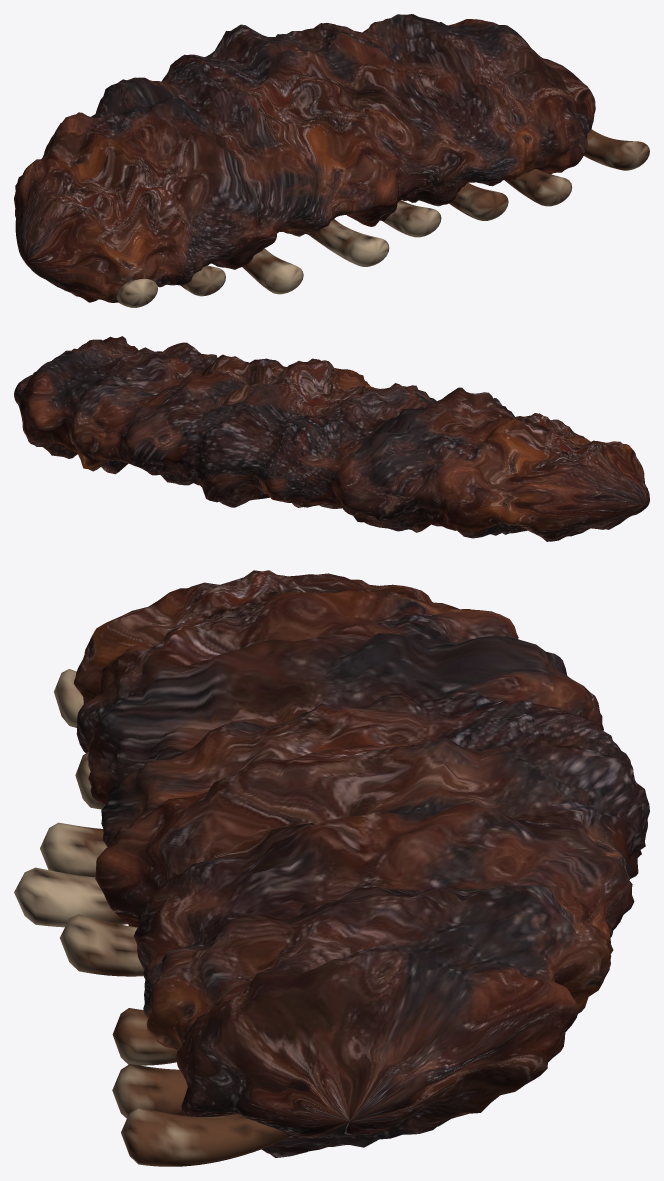
Rendered from pork-monster-ribs.glb.
The picture shows the model from 3 angles, top to bottom: view 1: azimuth 30°, elevation 25°; view 2: azimuth 150°, elevation 25°; view 3: azimuth 270°, elevation 25°; orthographic projection. The views are drawn at different scales.
Parts seen in each view (by area): view 1: Glazed pork rack, Rib bone 4, Rib bone 8, Rib bone 3, Rib bone 7, Rib bone 6, Rib bone 5, Rib bone 1, Rib bone 2; view 2: Glazed pork rack; view 3: Glazed pork rack, Rib bone 8, Rib bone 4, Rib bone 5, Rib bone 7, Rib bone 3, Rib bone 6, Rib bone 1.
Boxes of the visible parts, <box> form: Glazed pork rack: <box>14,14,595,302</box>; Rib bone 4: <box>308,219,389,266</box>; Rib bone 8: <box>583,129,649,170</box>; Rib bone 3: <box>242,248,303,294</box>; Rib bone 7: <box>504,169,572,206</box>; Rib bone 6: <box>449,183,508,220</box>; Rib bone 5: <box>382,200,441,237</box>; Rib bone 1: <box>116,278,157,307</box>; Rib bone 2: <box>180,265,225,296</box>; Glazed pork rack: <box>14,336,649,541</box>; Glazed pork rack: <box>73,570,649,1157</box>; Rib bone 8: <box>121,1107,289,1166</box>; Rib bone 4: <box>14,867,127,927</box>; Rib bone 5: <box>60,914,144,976</box>; Rib bone 7: <box>112,1064,187,1118</box>; Rib bone 3: <box>40,822,107,877</box>; Rib bone 6: <box>112,1008,177,1065</box>; Rib bone 1: <box>54,669,83,727</box>.
Bounding box in the file's own units: 3.29 × 0.716 × 1.74.
Materials: 2 (1 with a texture image).
